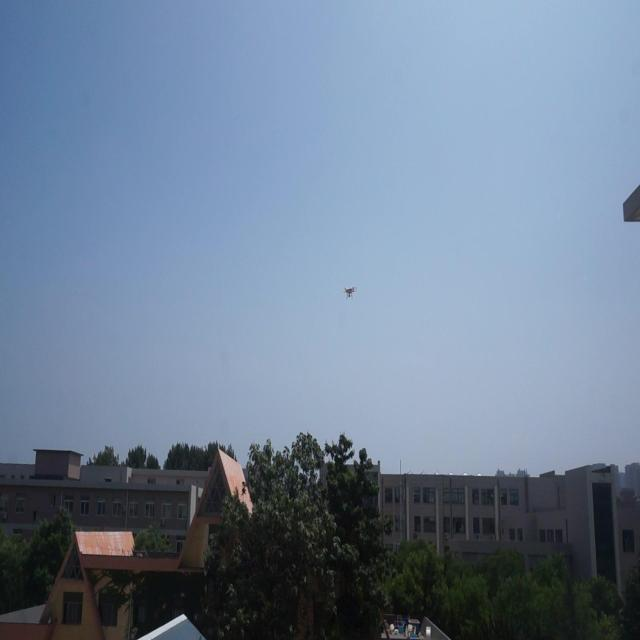drone: (343, 282, 357, 301)
